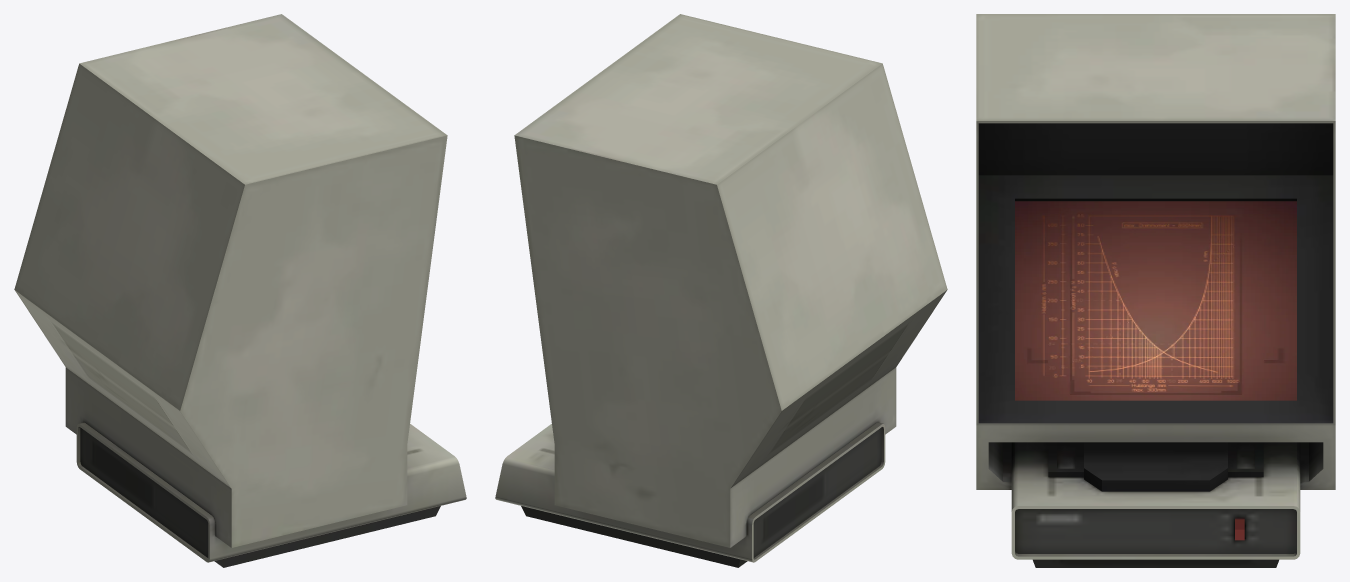
Rendered from microfiche_reader.glb.
3 renders of one model, left to right at view 1: azimuth 30°, elevation 25°; view 2: azimuth 150°, elevation 25°; view 3: azimuth 270°, elevation 25°, orthographic. The views are drawn at different scales.
Parts seen in each view (by area): view 1: microfiche_reader; view 2: microfiche_reader; view 3: microfiche_reader.
Part boxes in pixels (left/top/right/bottom): microfiche_reader: left=14, top=14, right=466, bottom=567; microfiche_reader: left=495, top=14, right=947, bottom=567; microfiche_reader: left=976, top=14, right=1335, bottom=567.
Bounding box in the file's own units: 47.43 × 60.37 × 44.83.
2 materials, 2 textured.
